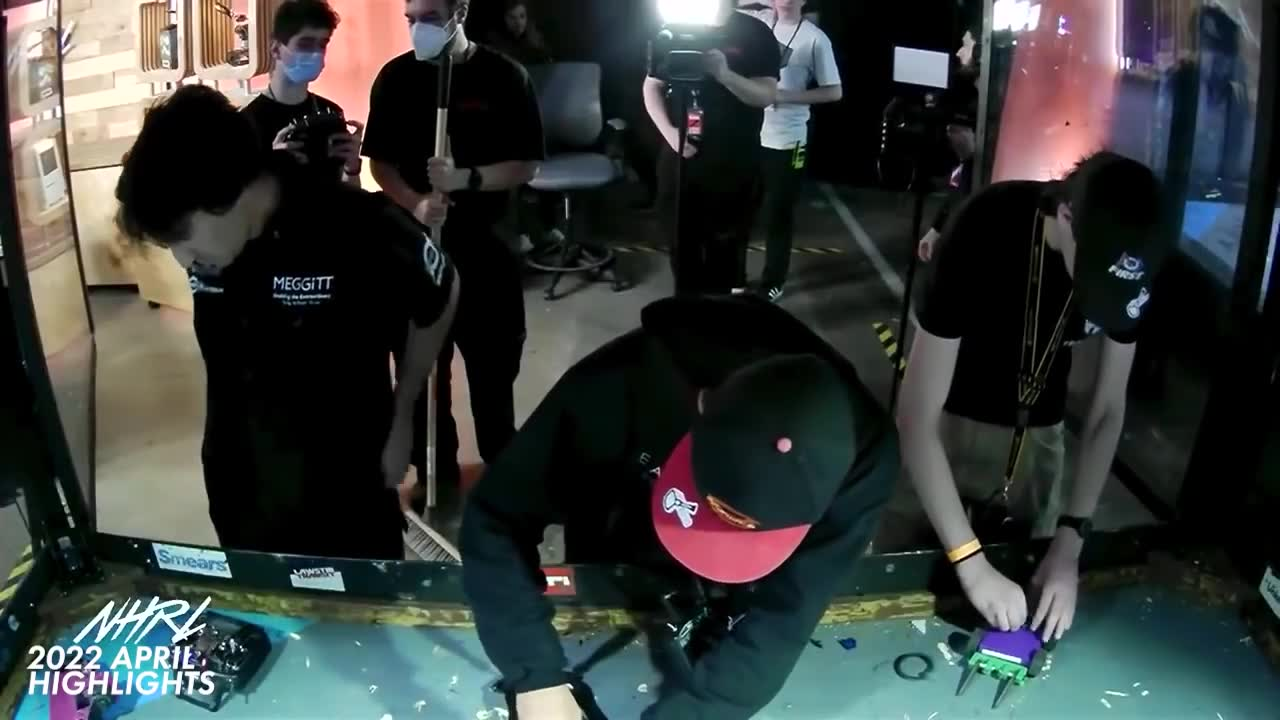belt: (892, 654, 932, 682)
combatbot: (958, 616, 1057, 707)
